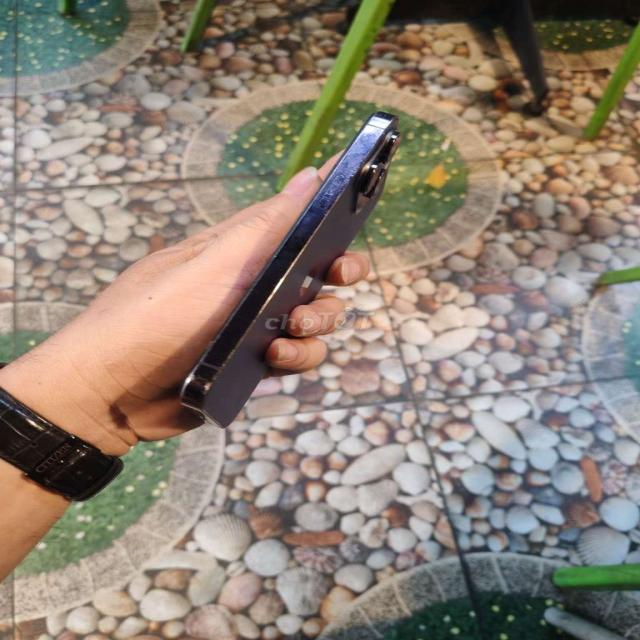scratch: (312, 129, 381, 208), (189, 336, 236, 392)
